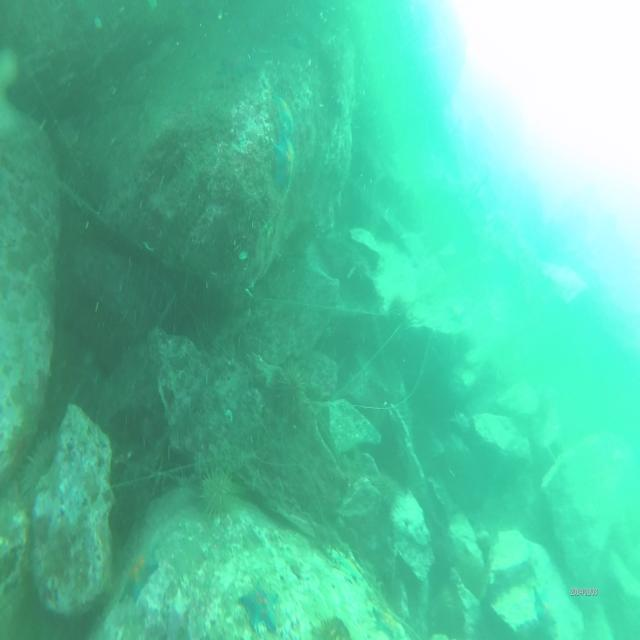echinus: (197, 462, 238, 523), (272, 357, 310, 422)
starfish: (116, 543, 164, 610), (236, 578, 282, 640), (368, 598, 425, 640), (532, 577, 564, 631), (271, 129, 294, 195), (336, 553, 369, 587), (270, 88, 294, 134), (216, 52, 253, 81)
